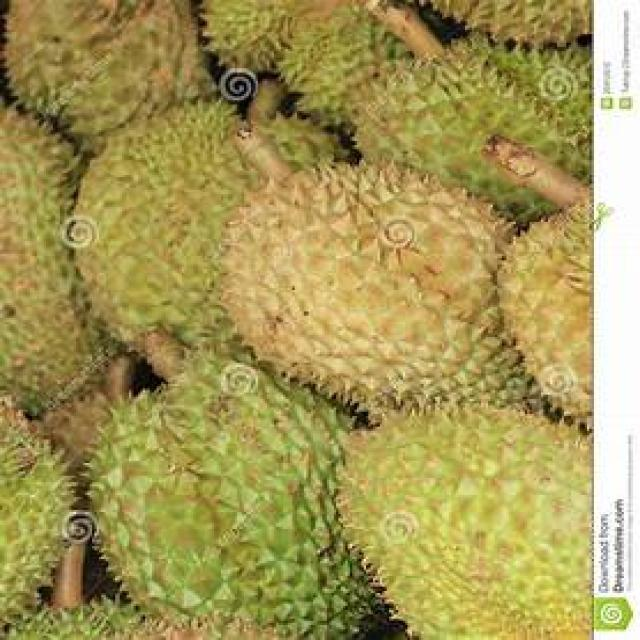mature: (223, 165, 531, 416)
